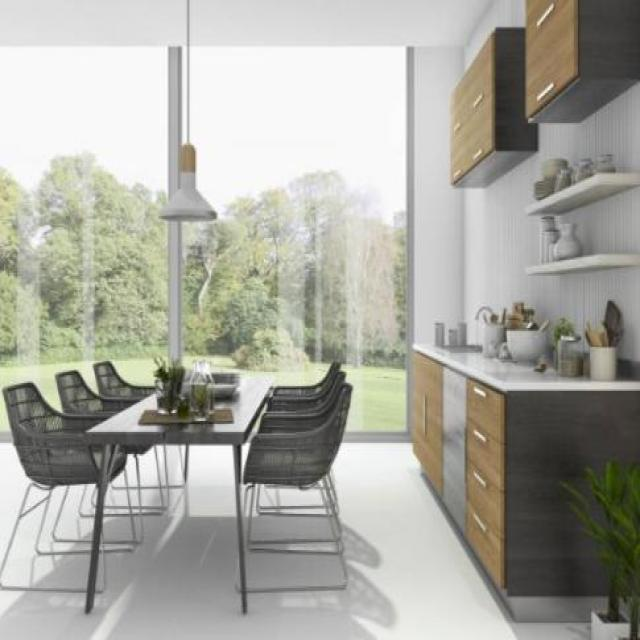dishwasher: (442, 364, 466, 539)
